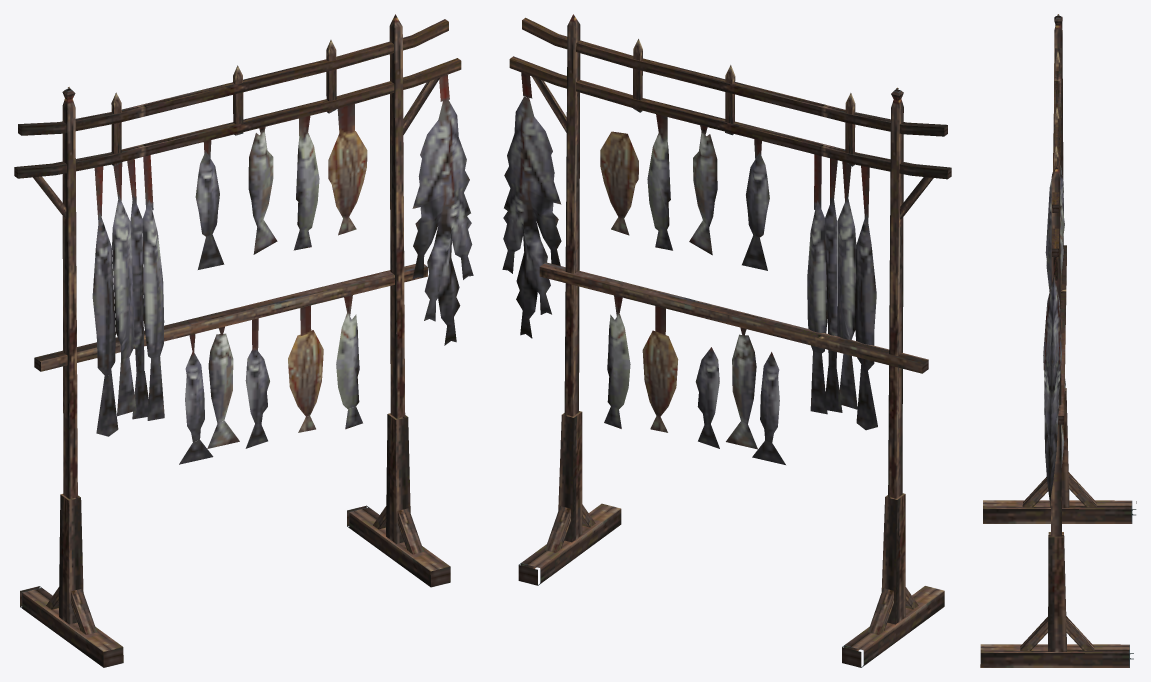
File: 5012_Item_wujian_2.FBX
3 views of the same model, side by side, from view 1: azimuth 30°, elevation 25°; view 2: azimuth 150°, elevation 25°; view 3: azimuth 270°, elevation 25° (orthographic). The views are drawn at different scales.
Parts seen in each view (by area): view 1: 5012_Item_wujian_2; view 2: 5012_Item_wujian_2; view 3: 5012_Item_wujian_2.
Part boxes in pixels (box(x1,y1,x2,y2)): 5012_Item_wujian_2: box(14, 14, 473, 667); 5012_Item_wujian_2: box(502, 14, 951, 667); 5012_Item_wujian_2: box(980, 14, 1136, 667).
Size of the model in its own units: 270 by 313 by 87.9.
